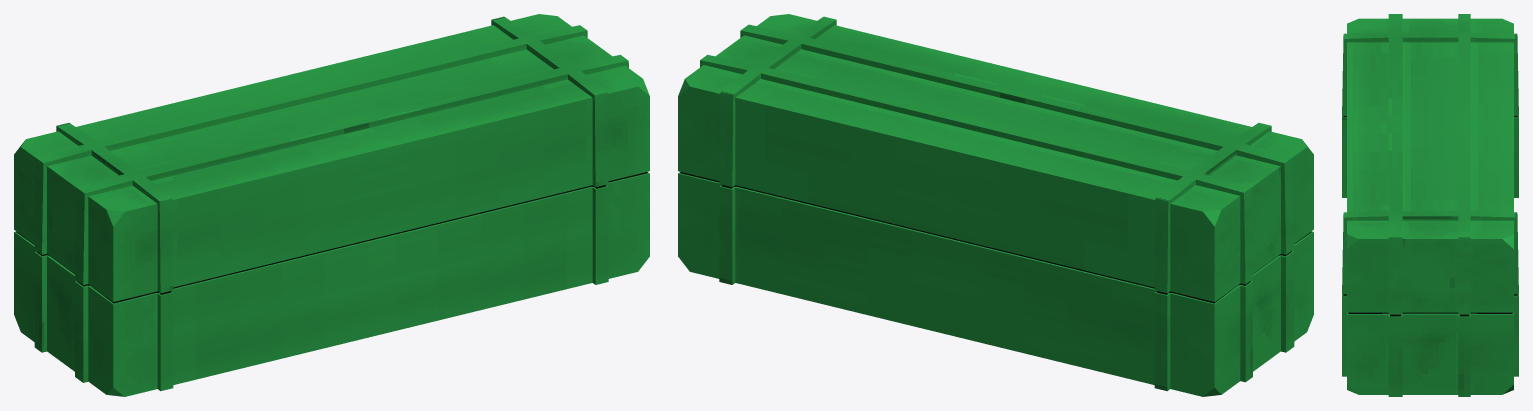
File: AWPGunCase.glb
The picture shows the model from 3 angles, left to right: view 1: azimuth 30°, elevation 25°; view 2: azimuth 150°, elevation 25°; view 3: azimuth 270°, elevation 25°; orthographic projection. The views are drawn at different scales.
Parts seen in each view (by area): view 1: Cube.001; view 2: Cube.001; view 3: Cube.001.
Boxes of the visible parts, x1,y1,x2,y2 form: Cube.001: (14,14,649,396); Cube.001: (678,14,1313,396); Cube.001: (1342,14,1518,396).
Size of the model in its own units: 11.98 by 3.99 by 3.99.
Materials: 1 (1 with a texture image).
